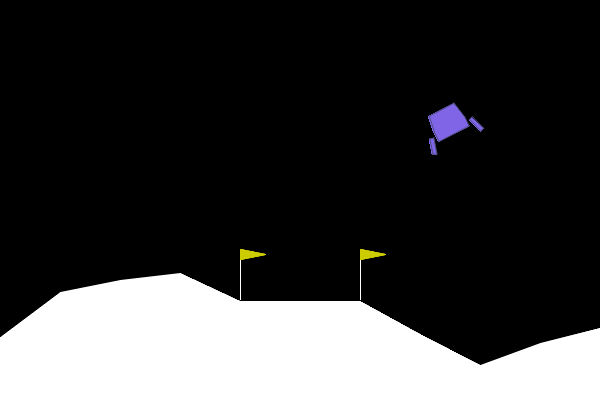lander: (414, 94, 485, 158)
